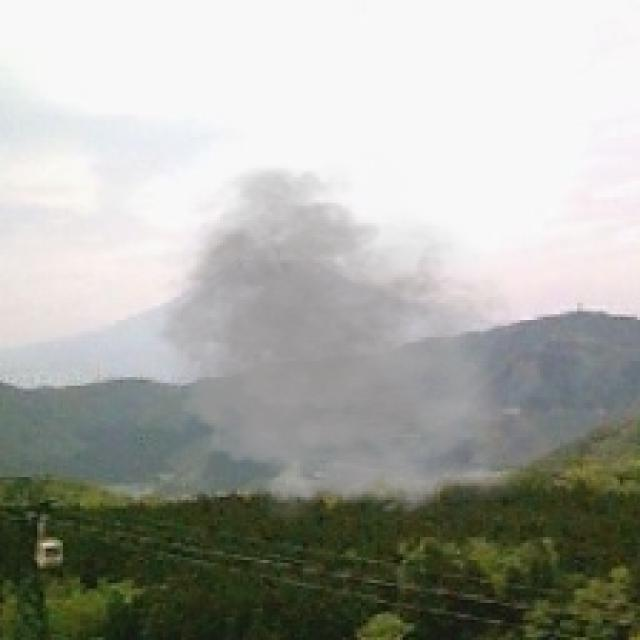Smoke: (135, 154, 534, 532)
